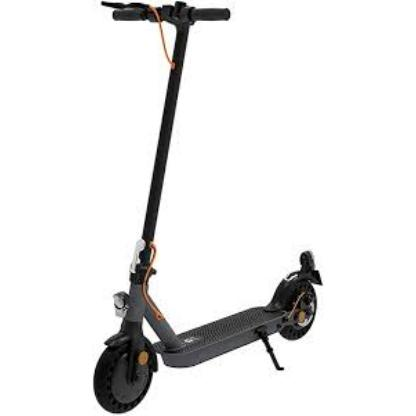bike: (92, 238, 324, 415)
